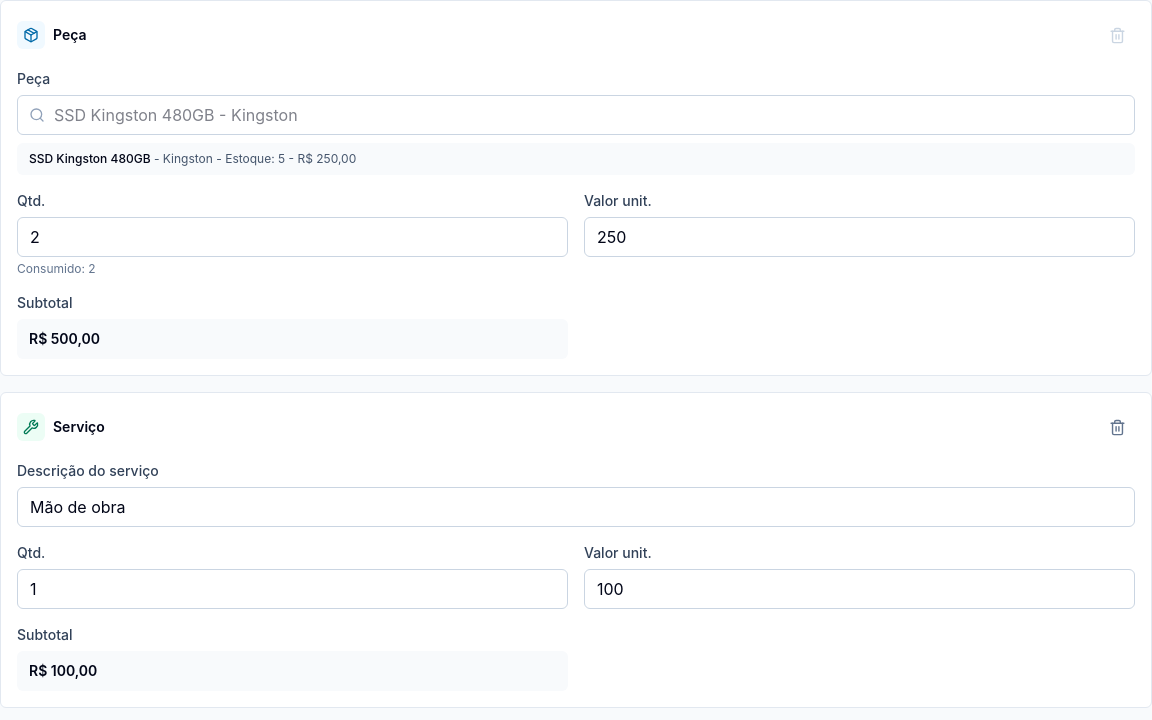
Test: BudgetForm mixed budget experience › loads both item types into a revision and protects consumed PART
Expected: the field showing "Mão de obra" is shown, [17,487,1135,527]
Expected: the button named "remover peça 1" is disabled, [1099,17,1135,53]
Replace the text in the number field labelled "Qtd. Consumido: 2" with "1" at (292, 237), box [17,217,568,257]
(page scrolled)
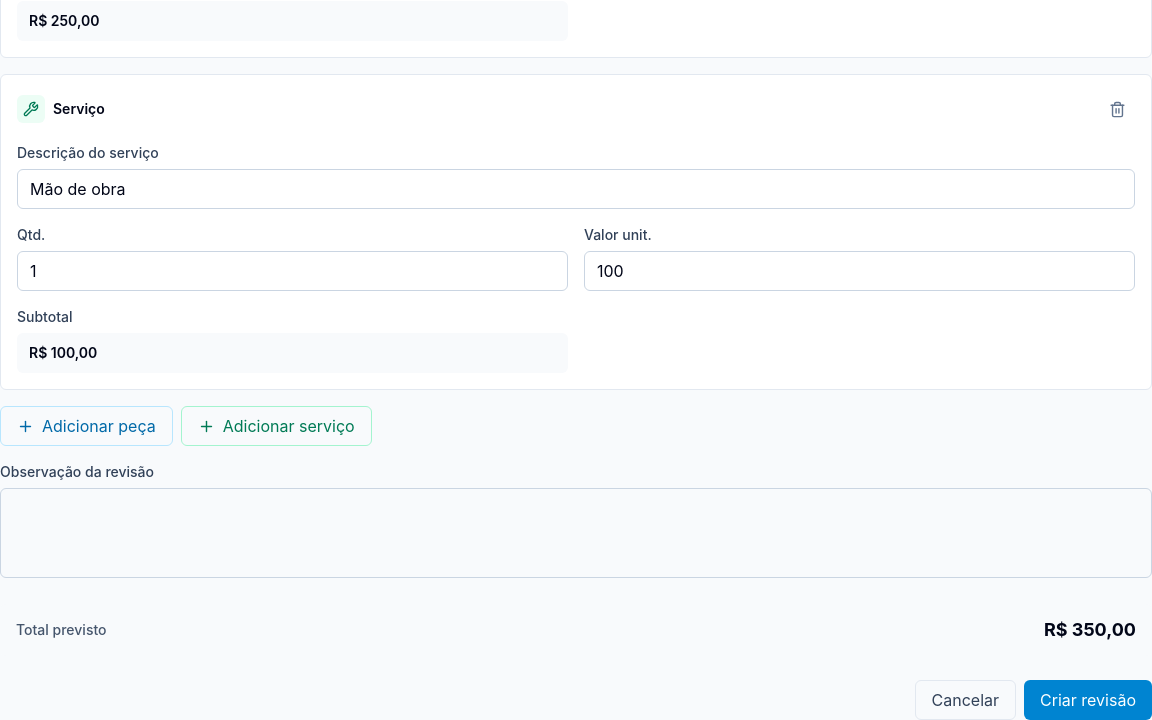
Click the button "Criar revisão" at (1088, 700), box [1024,680,1151,719]
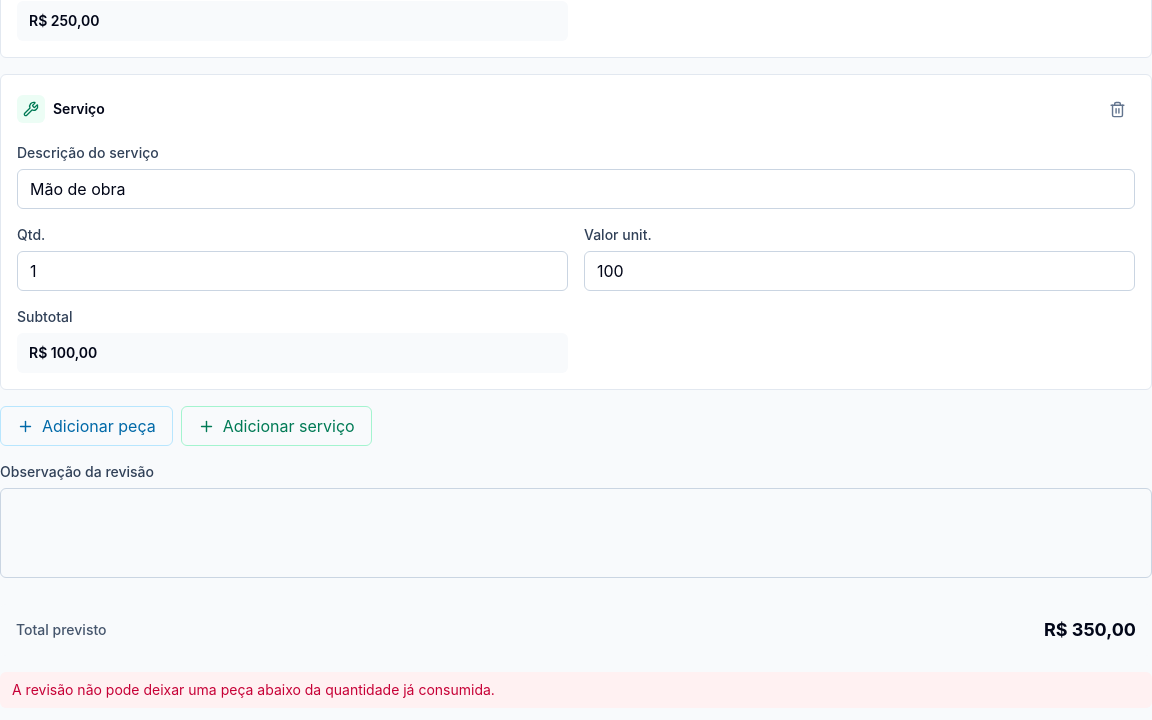
Now the text "abaixo da quantidade já consumida" is shown, box [12,681,495,698]
